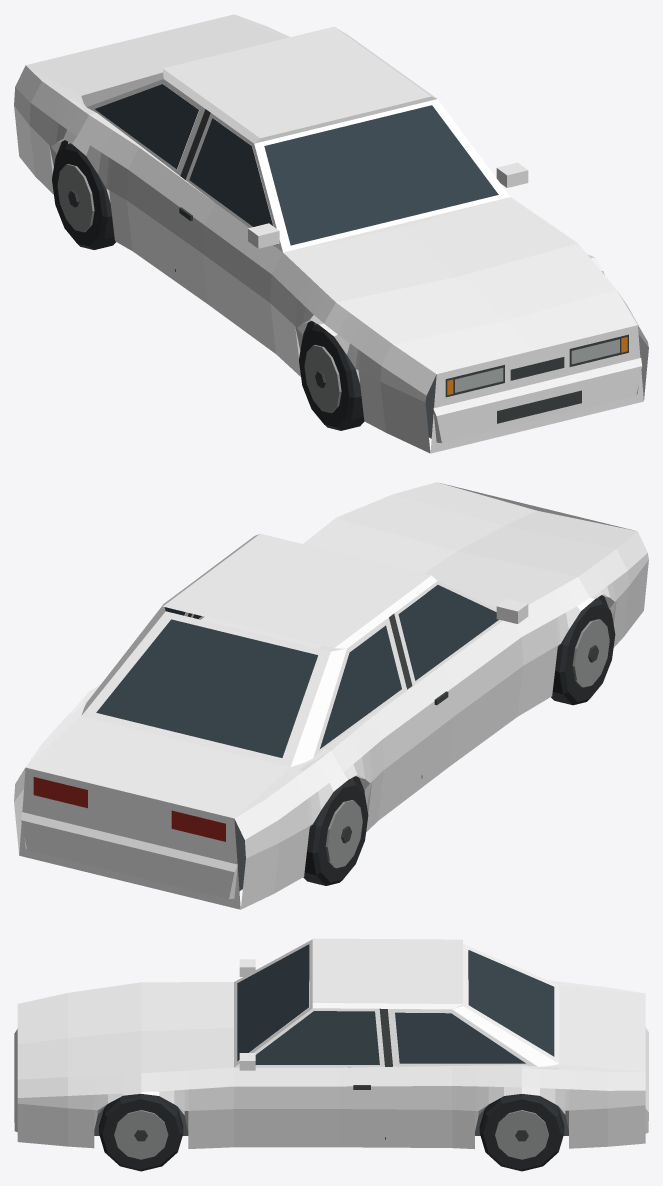
Rendered from hayase_tenku_s_iii.glb.
3 views of the same model, one above another, from view 1: azimuth 30°, elevation 25°; view 2: azimuth 150°, elevation 25°; view 3: azimuth 270°, elevation 25° (orthographic). The views are drawn at different scales.
Parts seen in each view (by area): view 1: hayase_tenku_s_iii; view 2: hayase_tenku_s_iii; view 3: hayase_tenku_s_iii.
Part boxes in pixels (x1,y1,x2,y2): hayase_tenku_s_iii: [14, 14, 648, 453]; hayase_tenku_s_iii: [14, 482, 648, 909]; hayase_tenku_s_iii: [14, 938, 648, 1171].
Size of the model in its own units: 1.82 by 1.24 by 4.7.
8 materials, 1 textured.
